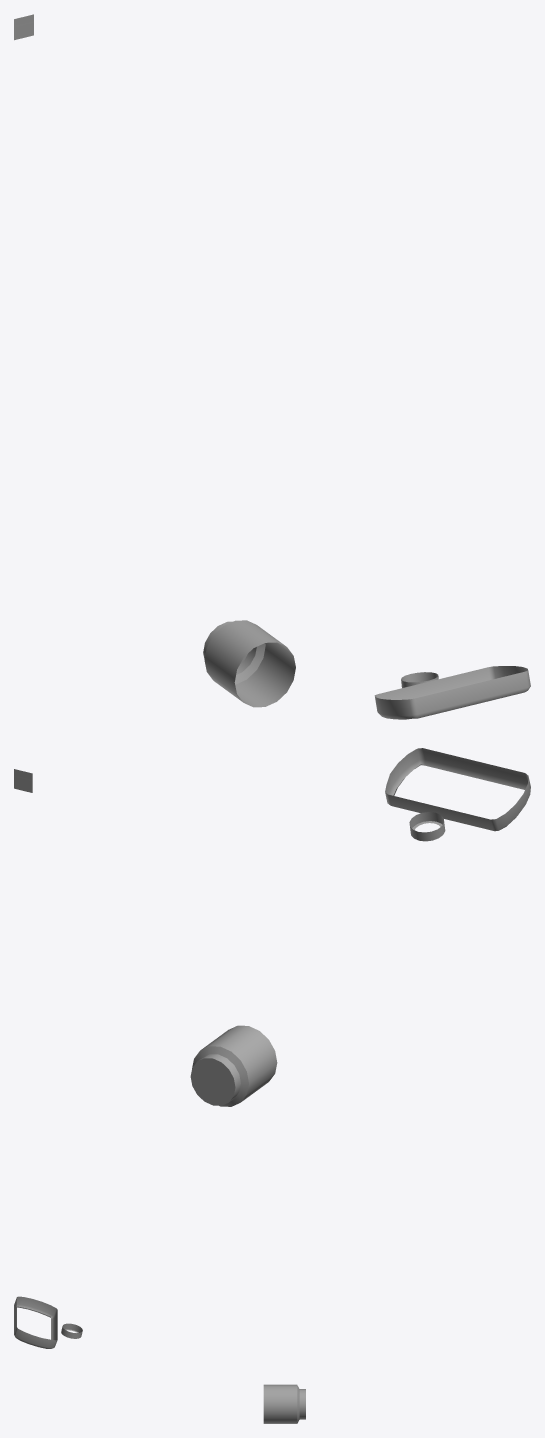
File: MeshCoffeeMachine_6_0_GeomSubset_2.obj
3 views of the same model, one above another, from view 1: azimuth 30°, elevation 25°; view 2: azimuth 150°, elevation 25°; view 3: azimuth 270°, elevation 25° (orthographic). The views are drawn at different scales.
Visible parts, largest first — view 1: MeshCoffeeMachine_6_0_GeomSubset_2; view 2: MeshCoffeeMachine_6_0_GeomSubset_2; view 3: MeshCoffeeMachine_6_0_GeomSubset_2.
Part boxes in pixels (x1=…): MeshCoffeeMachine_6_0_GeomSubset_2: x1=14, y1=14, x2=530, y2=719; MeshCoffeeMachine_6_0_GeomSubset_2: x1=14, y1=748, x2=530, y2=1106; MeshCoffeeMachine_6_0_GeomSubset_2: x1=14, y1=1296, x2=305, y2=1423.
Bounding box in the file's own units: 0.0667 × 0.2435 × 0.4012.
